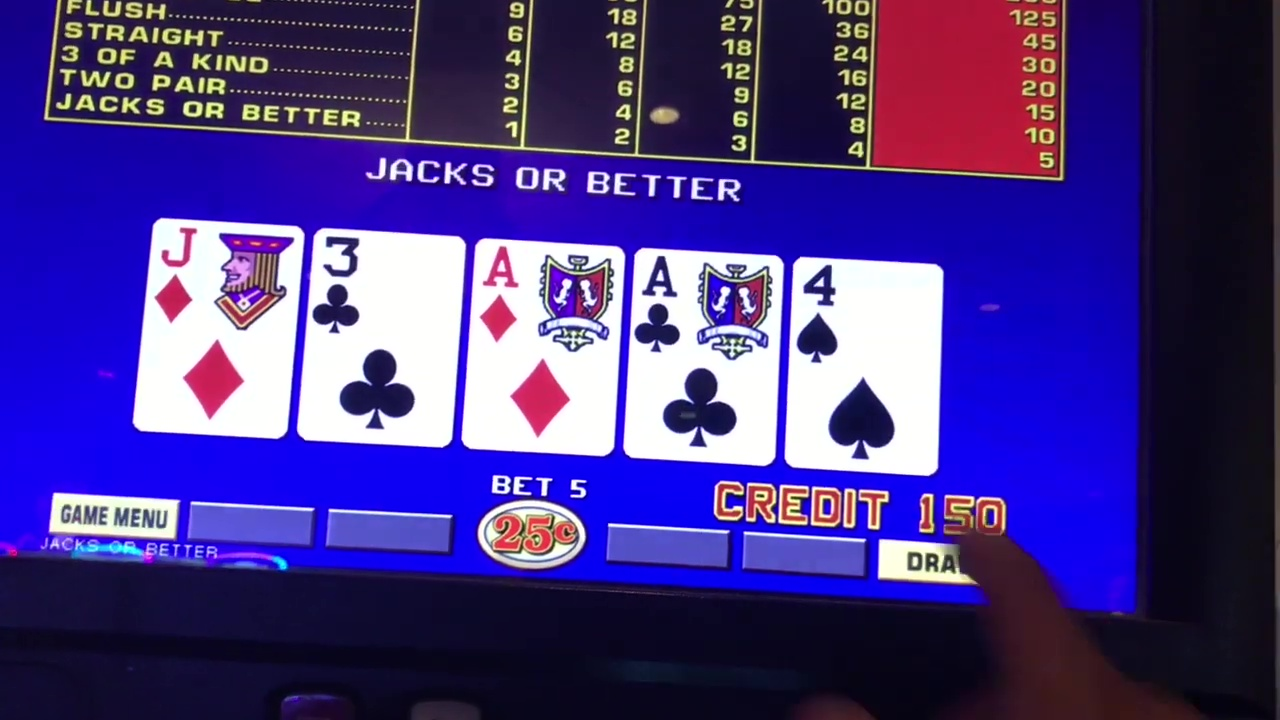C3: (311, 235, 457, 346)
CA: (636, 256, 774, 365)
DA: (474, 245, 620, 357)
DJ: (153, 222, 283, 336)
S4: (796, 262, 931, 375)
